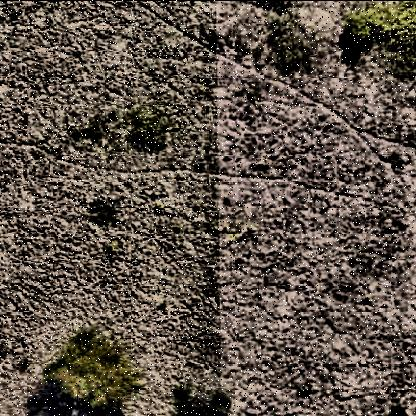tree-top: (43, 325, 143, 415), (341, 8, 397, 46), (175, 390, 228, 416)
